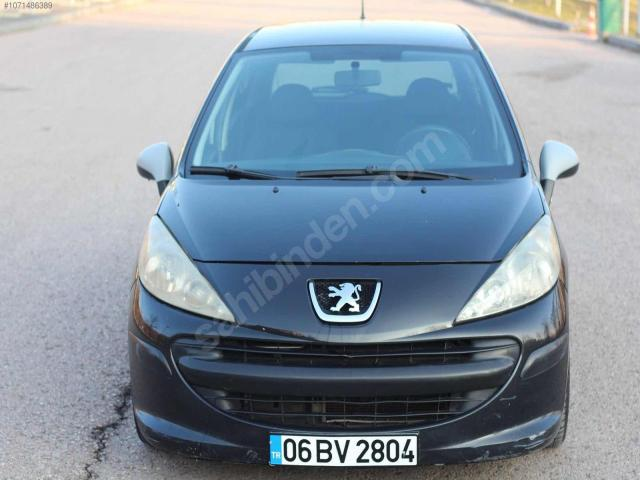plaka: (270, 435, 419, 466)
